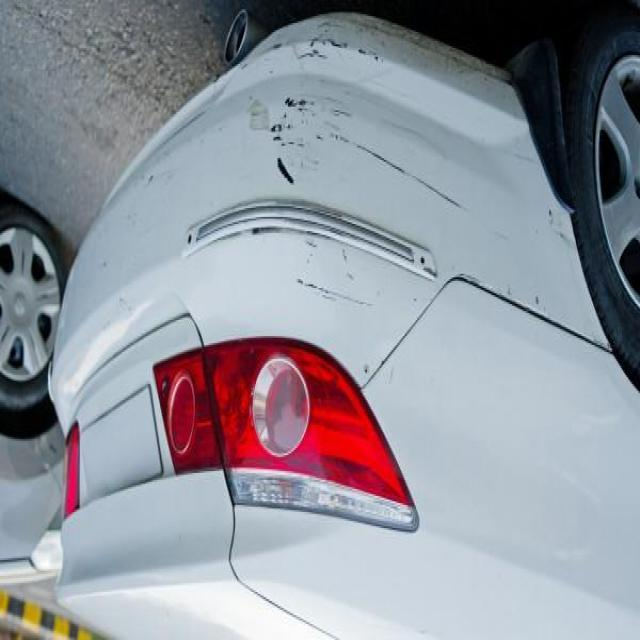scratch: (332, 120, 472, 212), (289, 265, 367, 313)
